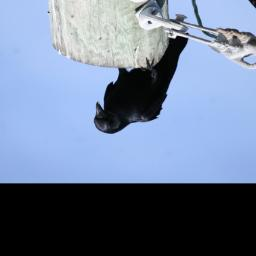Crow: (92, 31, 190, 134)
